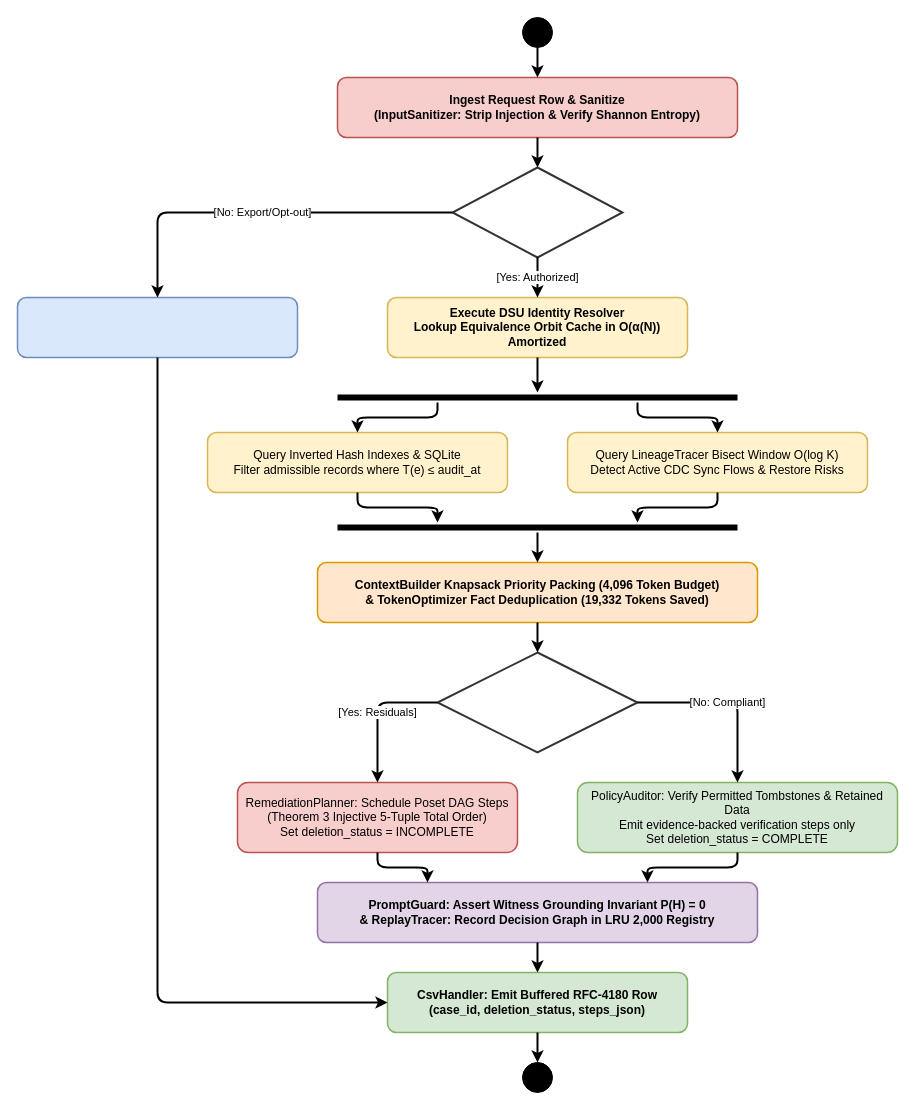
Image size: 916x1110. Some labels were removed from this diagram. The shapes that lost their labels are listed below. From the top down, each one's centre as x and y in pixels, then its label:
At point 537,212: "Decision: Does request_text authorize erasure?".
At point 157,327: "Set deletion_status = NOT_APPLICABLE Set steps_json = '[]' (Fast-Path)".
At point 537,702: "Decision: Were residual records, active sync flows, or restore risks found?".
